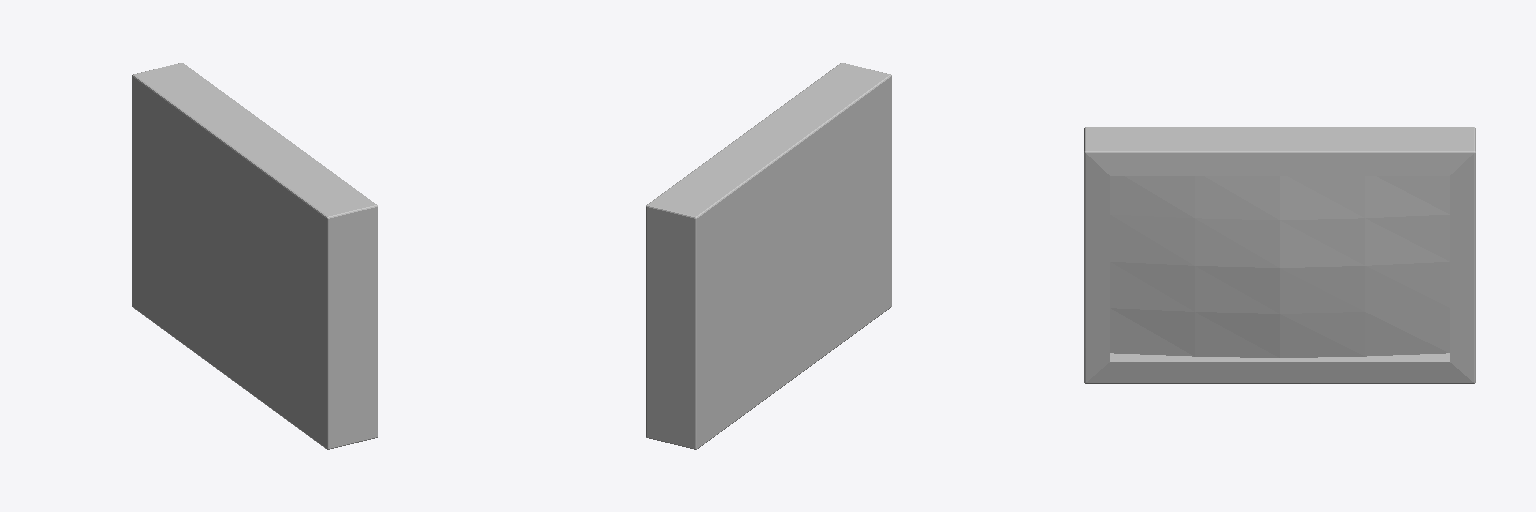
The model's file is Ecran_01.obj.
3 views of the same model, side by side, from view 1: azimuth 30°, elevation 25°; view 2: azimuth 150°, elevation 25°; view 3: azimuth 270°, elevation 25° (orthographic).
Visible parts, largest first — view 1: Cube; view 2: Cube; view 3: Cube.
Part boxes in pixels (x1,y1,x2,y2): Cube: (132,63,377,449); Cube: (646,63,891,449); Cube: (1084,127,1475,383).
Bounding box in the file's own units: 0.029 × 0.1214 × 0.185.